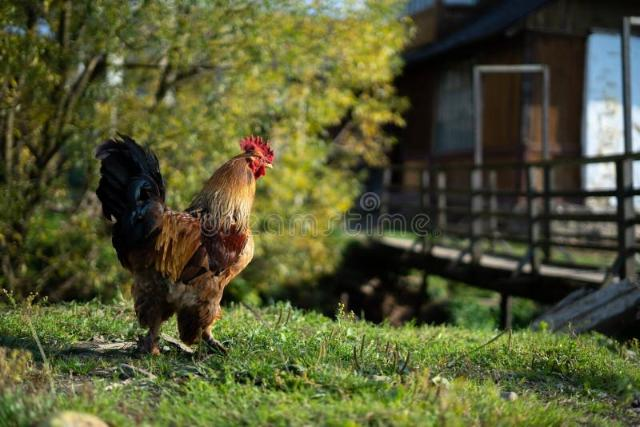Chicken: (95, 133, 273, 354)
